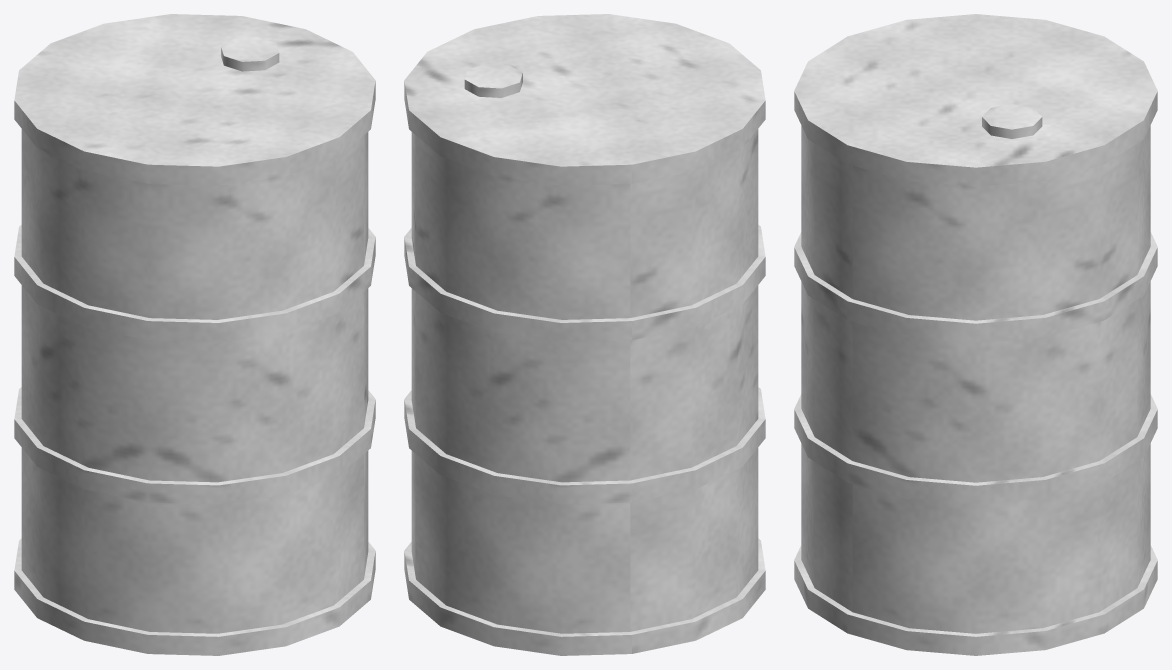
The model's file is barrel.glb.
3 renders of one model, left to right at view 1: azimuth 30°, elevation 25°; view 2: azimuth 150°, elevation 25°; view 3: azimuth 270°, elevation 25°, orthographic.
Parts seen in each view (by area): view 1: barrel; view 2: barrel; view 3: barrel.
Part boxes in pixels (bbox=[...]): barrel: bbox=[14, 14, 375, 655]; barrel: bbox=[404, 14, 765, 655]; barrel: bbox=[794, 14, 1157, 655].
Size of the model in its own units: 0.604 by 0.9125 by 0.604.
1 material, 1 textured.
